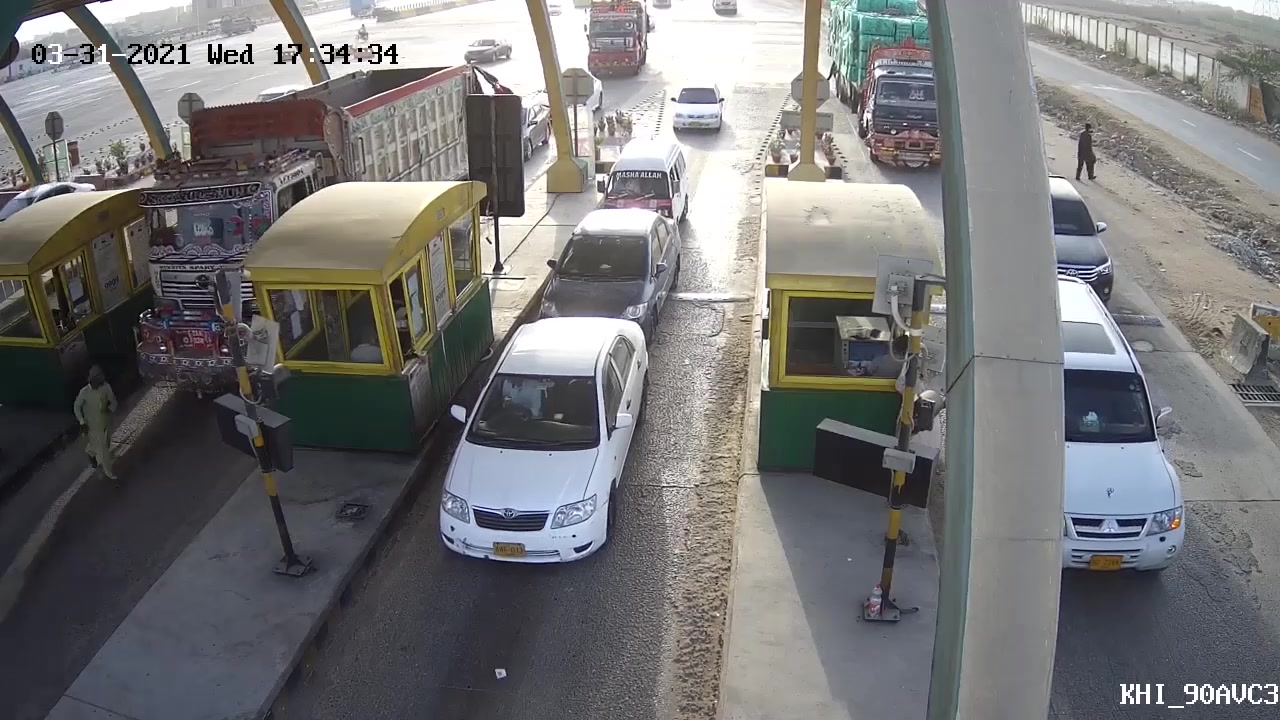F1: (435, 321, 648, 603)
